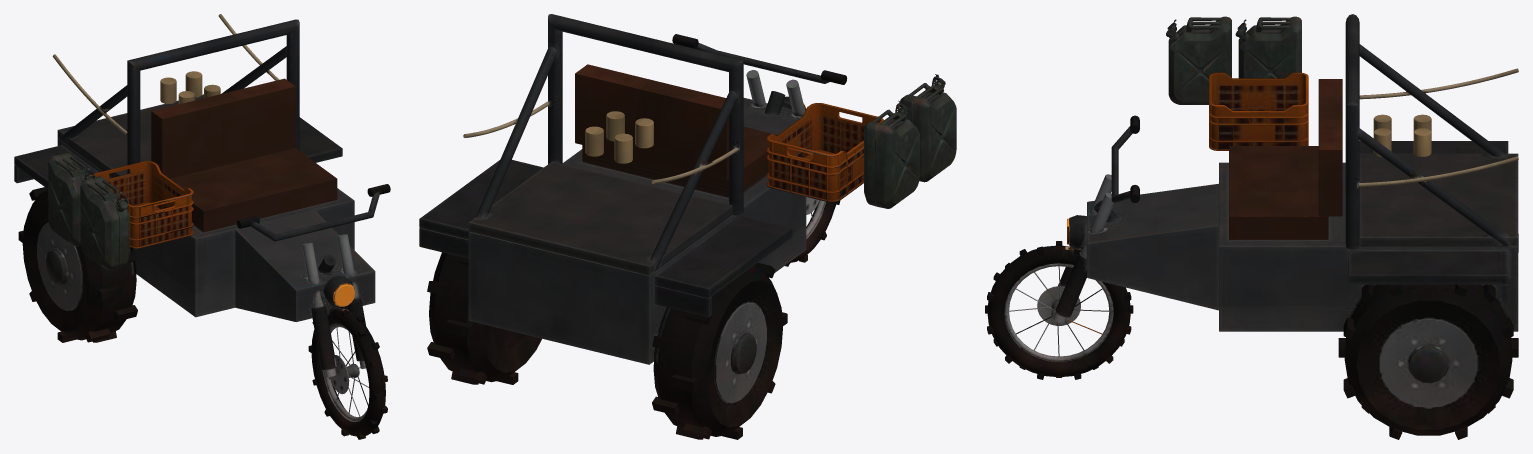
The model's file is trike.glb.
3 renders of one model, left to right at view 1: azimuth 30°, elevation 25°; view 2: azimuth 150°, elevation 25°; view 3: azimuth 270°, elevation 25°, orthographic. The views are drawn at different scales.
Parts seen in each view (by area): view 1: trike; view 2: trike; view 3: trike.
Boxes of the visible parts, bbox=[...] form: trike: bbox=[14, 14, 390, 439]; trike: bbox=[419, 14, 956, 439]; trike: bbox=[985, 14, 1518, 439].
Bounding box in the file's own units: 2 × 1.79 × 2.67.
Materials: 2 (2 with a texture image).
